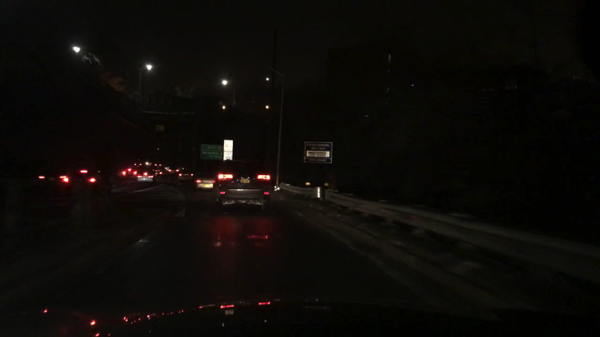car: (0, 158, 75, 232), (213, 159, 272, 213), (60, 161, 114, 195), (193, 172, 215, 192), (135, 167, 158, 185), (176, 169, 195, 183), (122, 165, 138, 180), (167, 167, 180, 176), (152, 167, 163, 177)
traffic sign: (303, 141, 333, 166), (198, 144, 223, 162), (223, 140, 235, 152), (223, 152, 233, 163)
